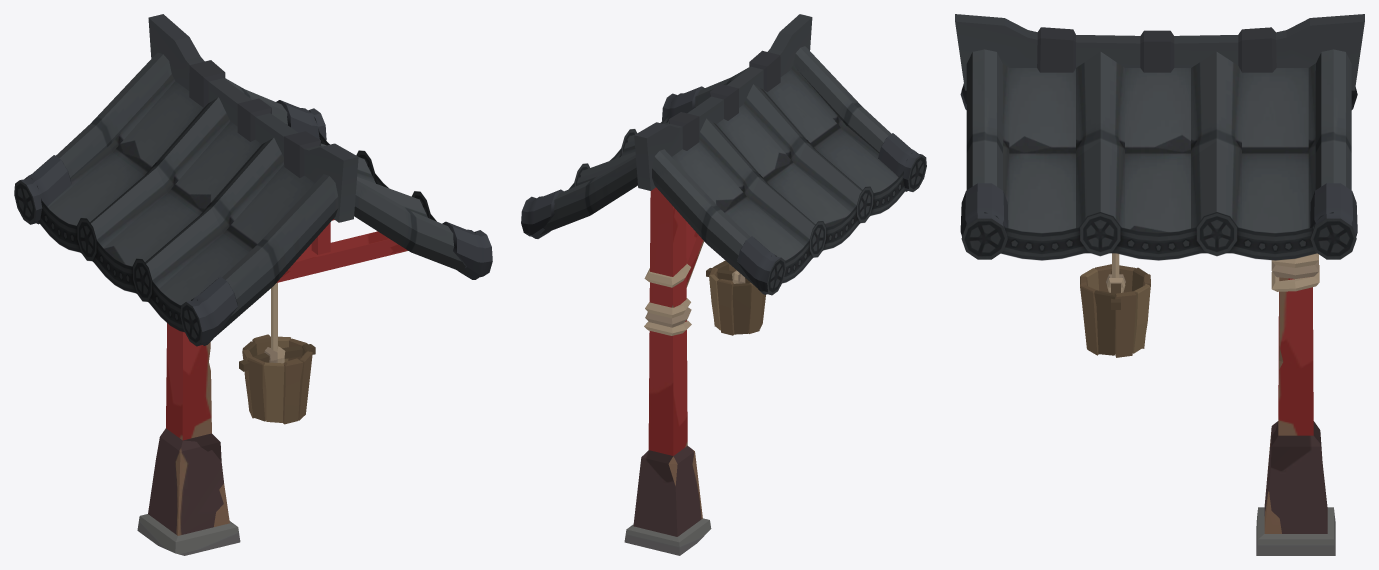
Rendered from samurai_SM_Prop_Well_Roof_01.gltf.
The picture shows the model from 3 angles, left to right: view 1: azimuth 30°, elevation 25°; view 2: azimuth 150°, elevation 25°; view 3: azimuth 270°, elevation 25°; orthographic projection. The views are drawn at different scales.
Visible parts, largest first — view 1: SM_Prop_Well_Roof_01; view 2: SM_Prop_Well_Roof_01; view 3: SM_Prop_Well_Roof_01.
Boxes of the visible parts, box(x1,y1,x2,y2) form: SM_Prop_Well_Roof_01: box(14, 14, 492, 555); SM_Prop_Well_Roof_01: box(521, 14, 926, 555); SM_Prop_Well_Roof_01: box(955, 14, 1364, 555).
Bounding box in the file's own units: 2.04 × 3.3 × 2.35.
2 materials, 2 textured.
